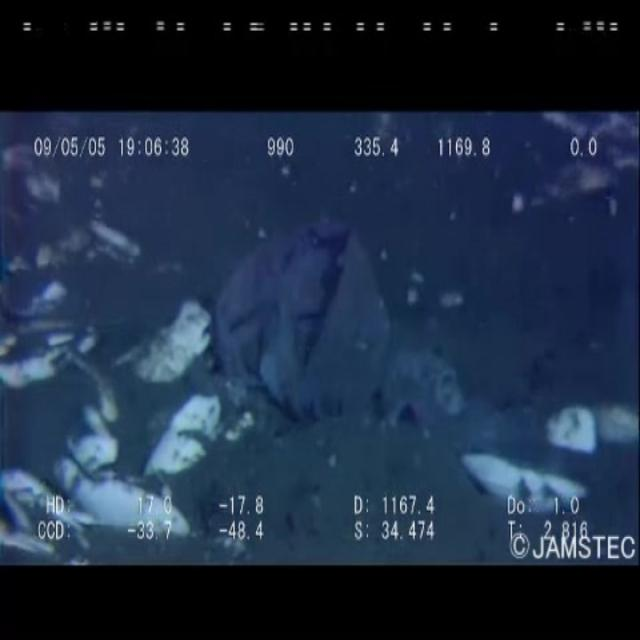Accessories: (203, 222, 437, 442)
